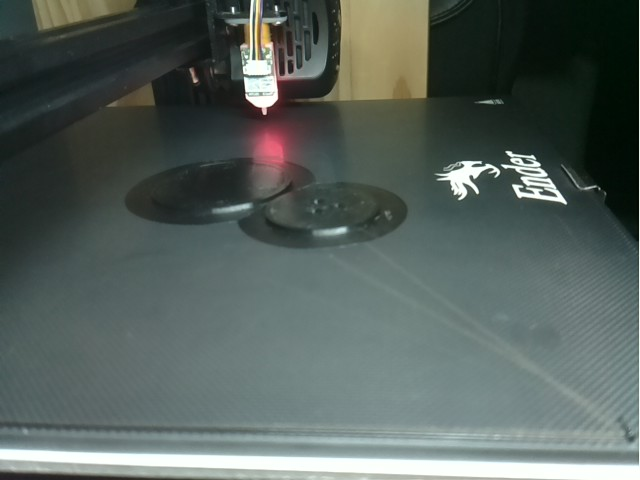left: (262, 167, 386, 237)
right: (262, 167, 387, 237)
